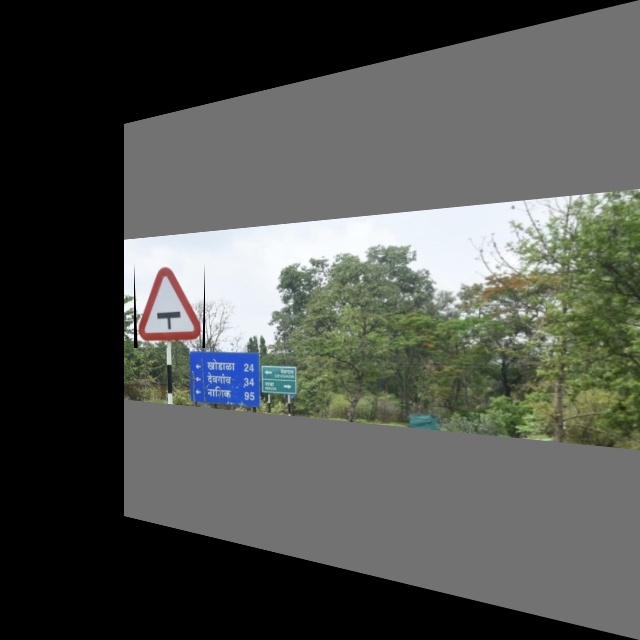T_Intersection: (134, 263, 205, 348)
